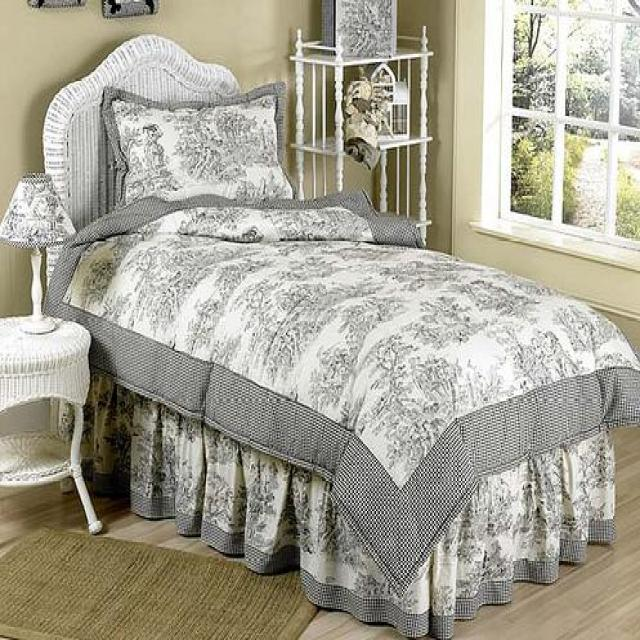bed: (40, 26, 639, 638)
table: (0, 312, 103, 534)
